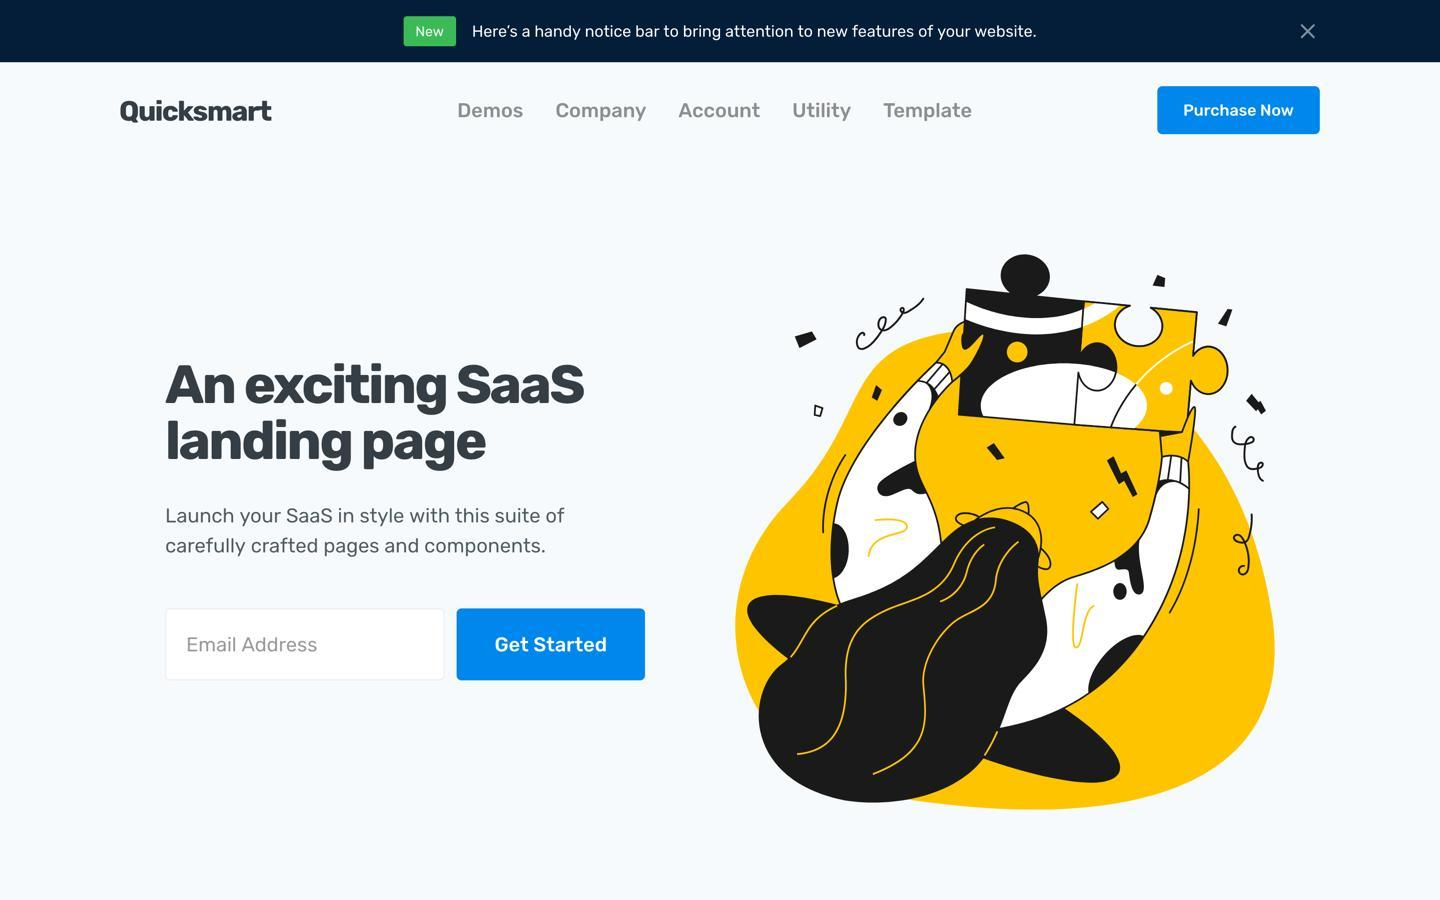button: (458, 608, 647, 683), (1157, 86, 1323, 137), (403, 15, 459, 49)
icon: (1296, 21, 1322, 47)
input: (167, 609, 446, 680)
label: (165, 363, 587, 475), (557, 102, 646, 123), (884, 103, 975, 122), (676, 103, 762, 119), (794, 100, 853, 123), (458, 101, 525, 121)
